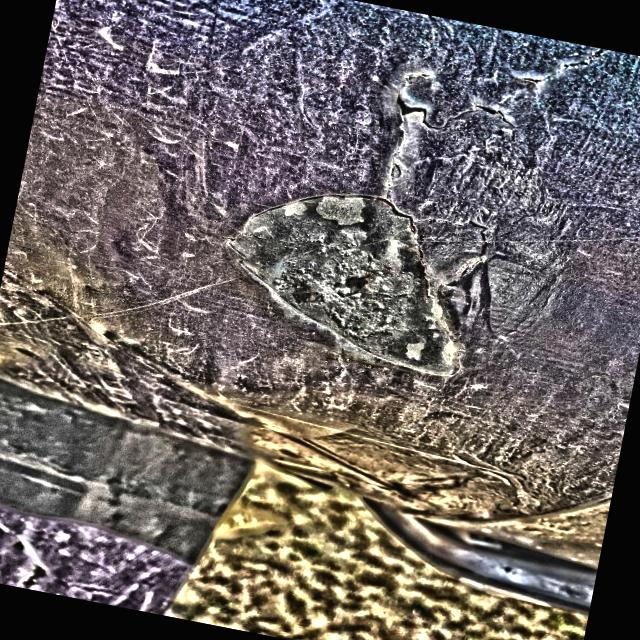crack: (388, 74, 526, 148), (504, 44, 586, 98)
dent: (186, 159, 494, 385)
